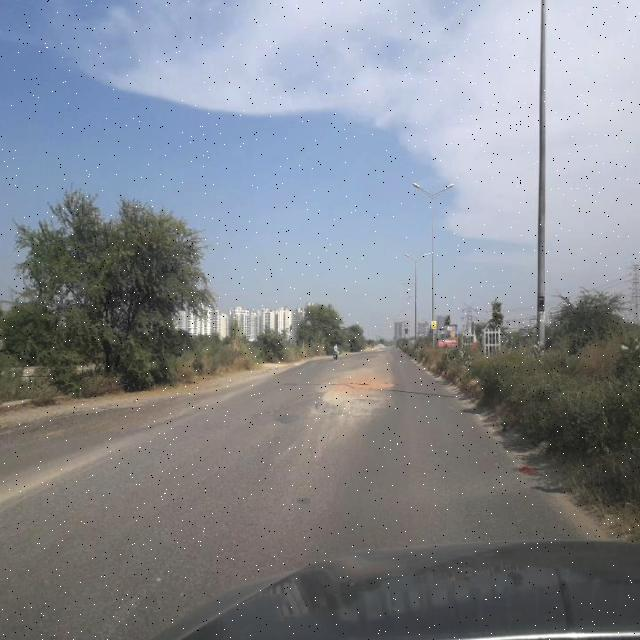D00: (4, 449, 110, 511)
D40: (311, 366, 401, 422)
